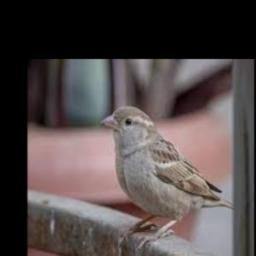Sparrow: (99, 106, 234, 249)
